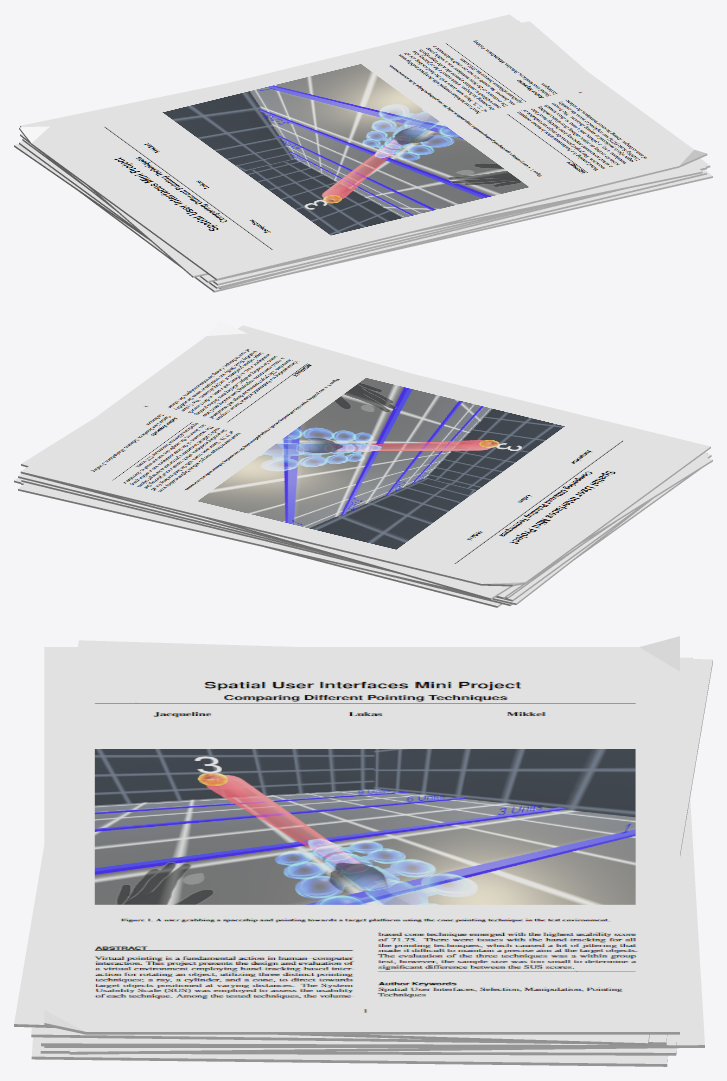
The model's file is Paper_1.fbx.
3 views of the same model, one above another, from view 1: azimuth 30°, elevation 25°; view 2: azimuth 150°, elevation 25°; view 3: azimuth 270°, elevation 25° (orthographic). The views are drawn at different scales.
Visible parts, largest first — view 1: paper_1; view 2: paper_1; view 3: paper_1.
Part boxes in pixels (bbox=[...]): paper_1: bbox=[14, 14, 712, 292]; paper_1: bbox=[14, 321, 712, 607]; paper_1: bbox=[14, 636, 712, 1066].
Bounding box in the file's own units: 88.05 × 3.78 × 64.43.
2 materials, 1 textured.
